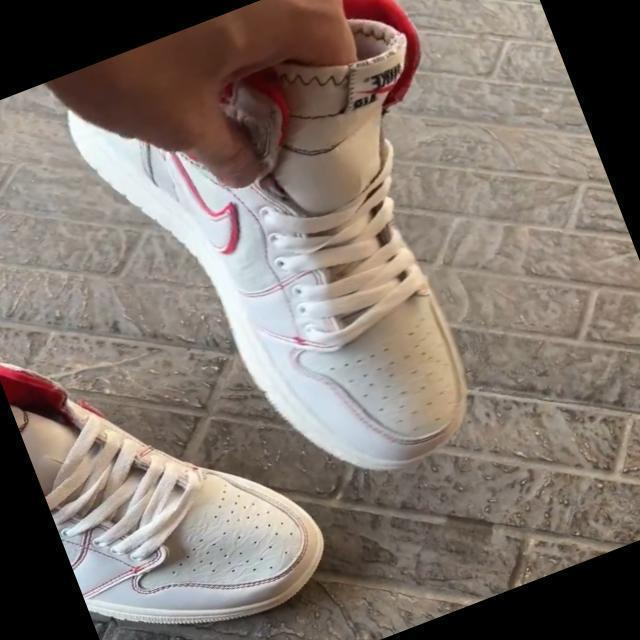nike fake jordan 1: (0, 259, 343, 640)
